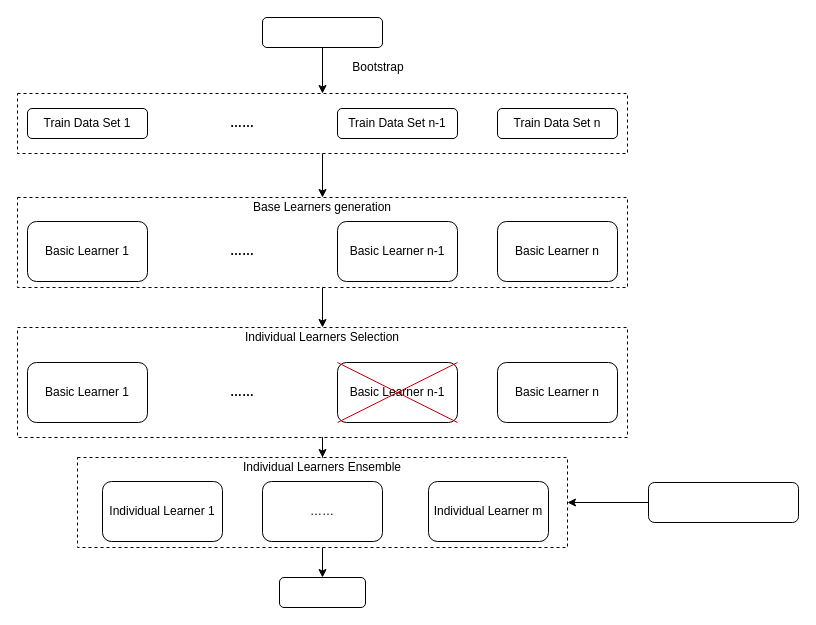
This 816x625 diagram has some shape labels left out. The shapes that lost their labels are listed below. From the top down, each one's box as (x1, y1, x2, y2) in pixels, then its label:
(262, 16, 382, 48): Raw Data
(648, 482, 798, 522): Sample to be diagnosed
(278, 576, 366, 608): Fault 3
